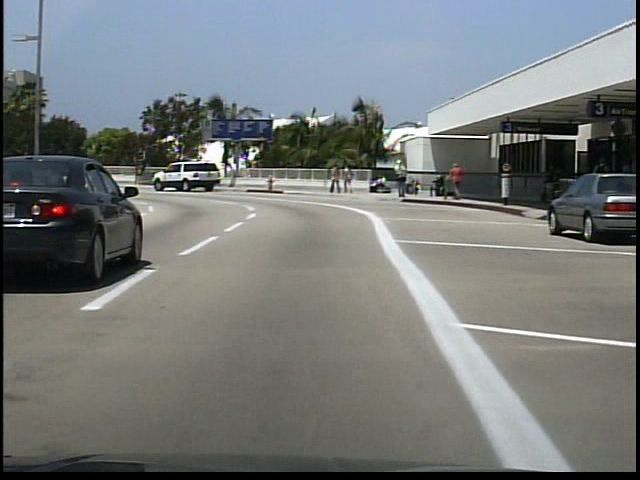person: (587, 153, 614, 217), (393, 158, 408, 203), (451, 160, 467, 199), (331, 162, 343, 196), (344, 162, 355, 197), (369, 175, 388, 194)
